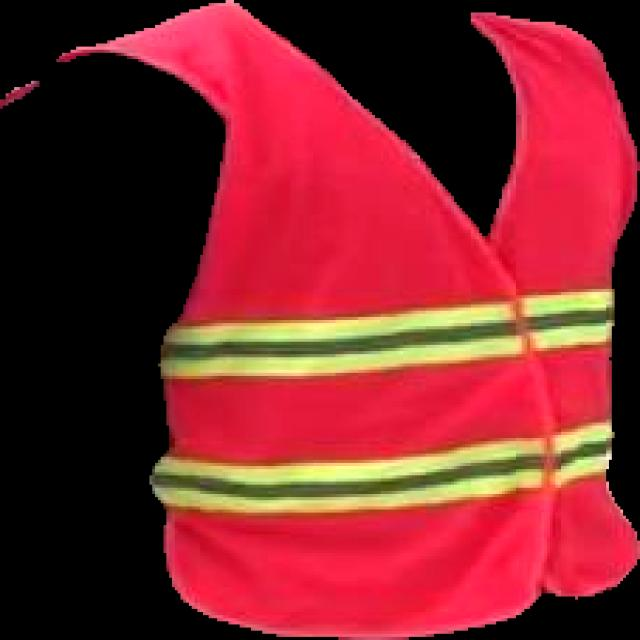Colete: (57, 0, 639, 639)
